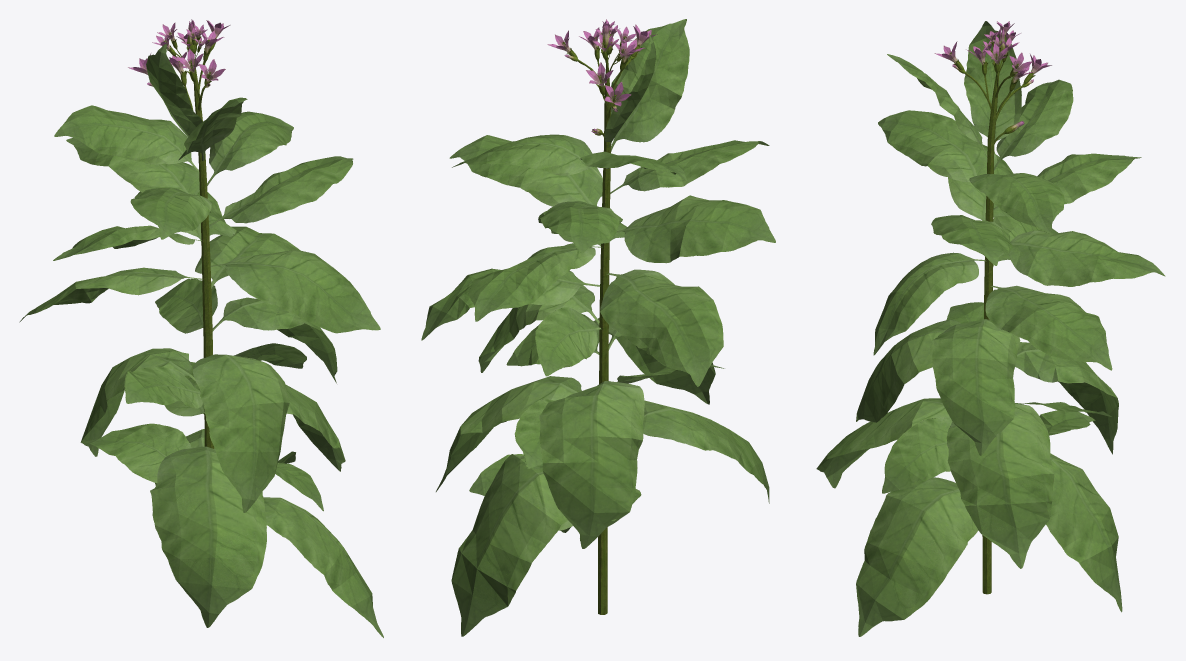
The model's file is tobacco_variant_8.dae.
3 views of the same model, side by side, from view 1: azimuth 30°, elevation 25°; view 2: azimuth 150°, elevation 25°; view 3: azimuth 270°, elevation 25° (orthographic). The views are drawn at different scales.
Visible parts, largest first — view 1: Leaves, Stem, FlowerPetals; view 2: Leaves, Stem, FlowerPetals; view 3: Leaves, Stem, FlowerPetals.
Part boxes in pixels (x1,y1,x2,y2): Leaves: [19, 44, 383, 637]; Stem: [143, 30, 214, 448]; FlowerPetals: [128, 19, 230, 87]; Leaves: [421, 19, 775, 636]; Stem: [562, 33, 631, 614]; FlowerPetals: [547, 19, 657, 135]; Leaves: [816, 21, 1165, 636]; Stem: [949, 27, 1025, 594]; FlowerPetals: [934, 21, 1051, 133].
Bounding box in the file's own units: 0.4453 × 0.4572 × 0.7948.
